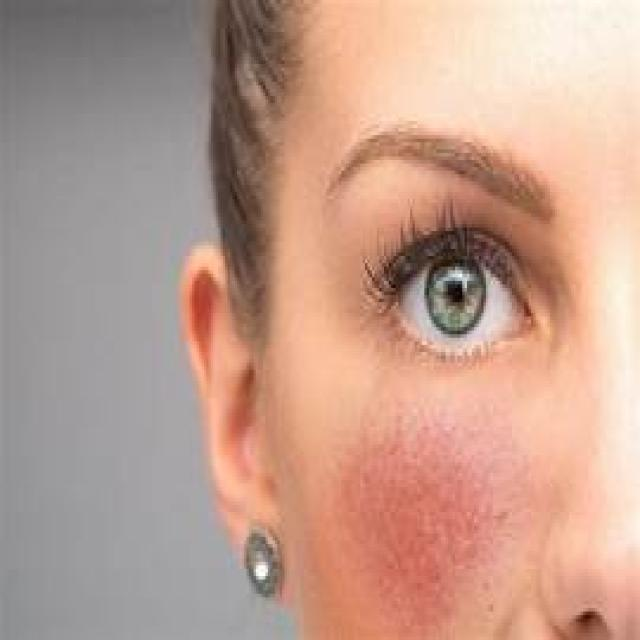pigmentation: (342, 423, 509, 635)
